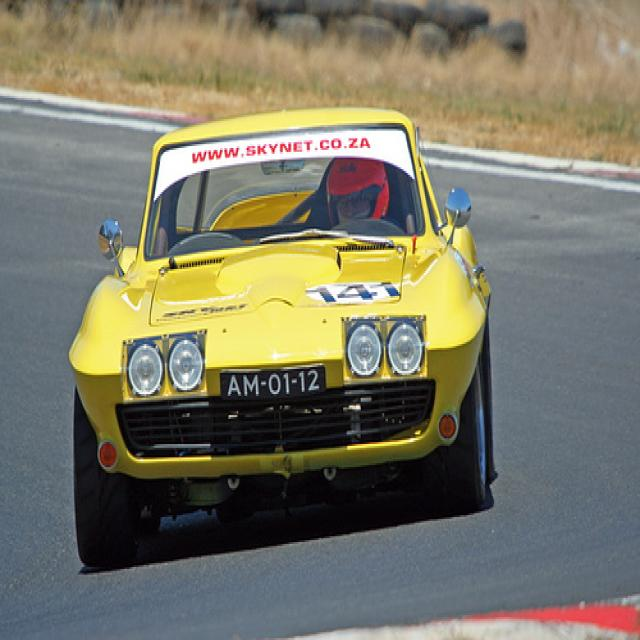car: (68, 105, 498, 566)
person: (325, 157, 391, 224)
